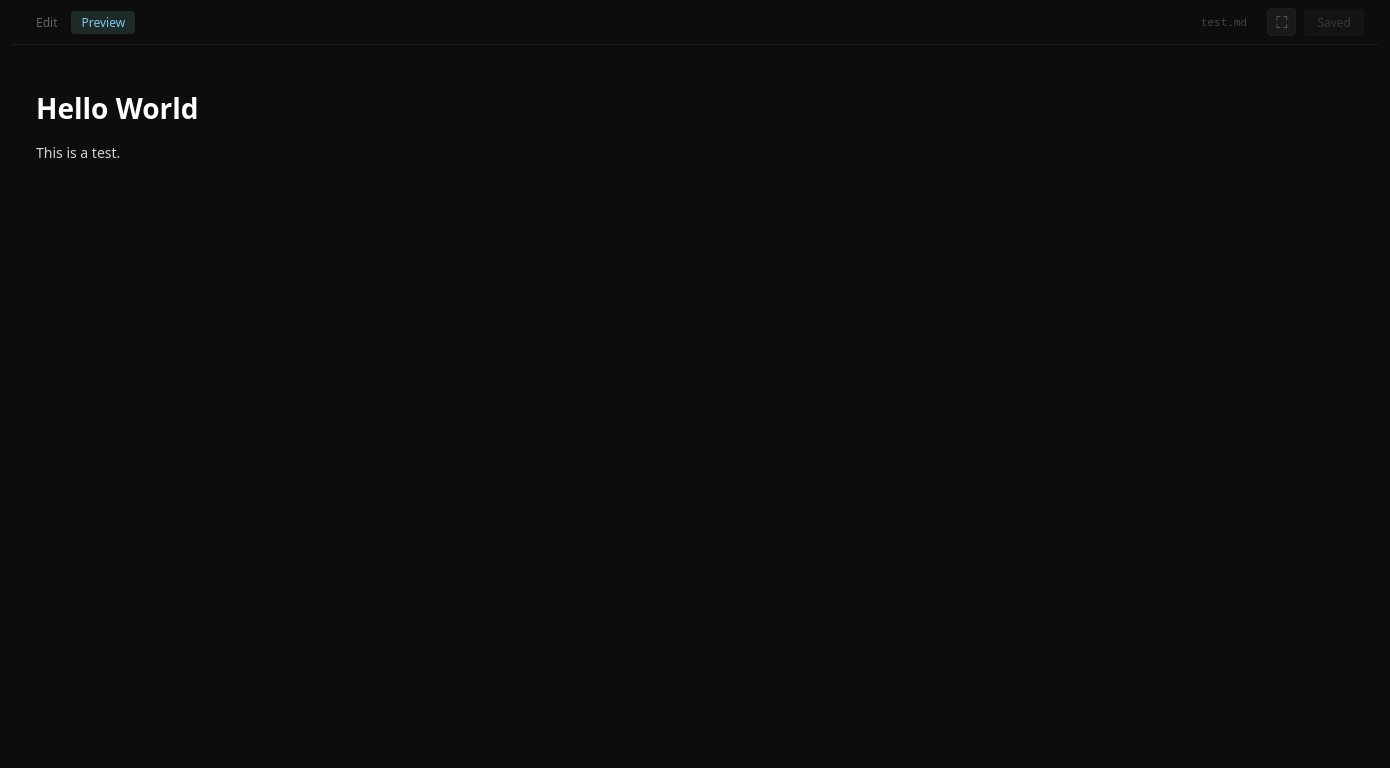
Test: Editor › default tab = preview › switches to edit tab when Edit button is clicked
Click the button with class "tab-btn" showing "Edit" at (47, 22), box 26,10 -> 68,34
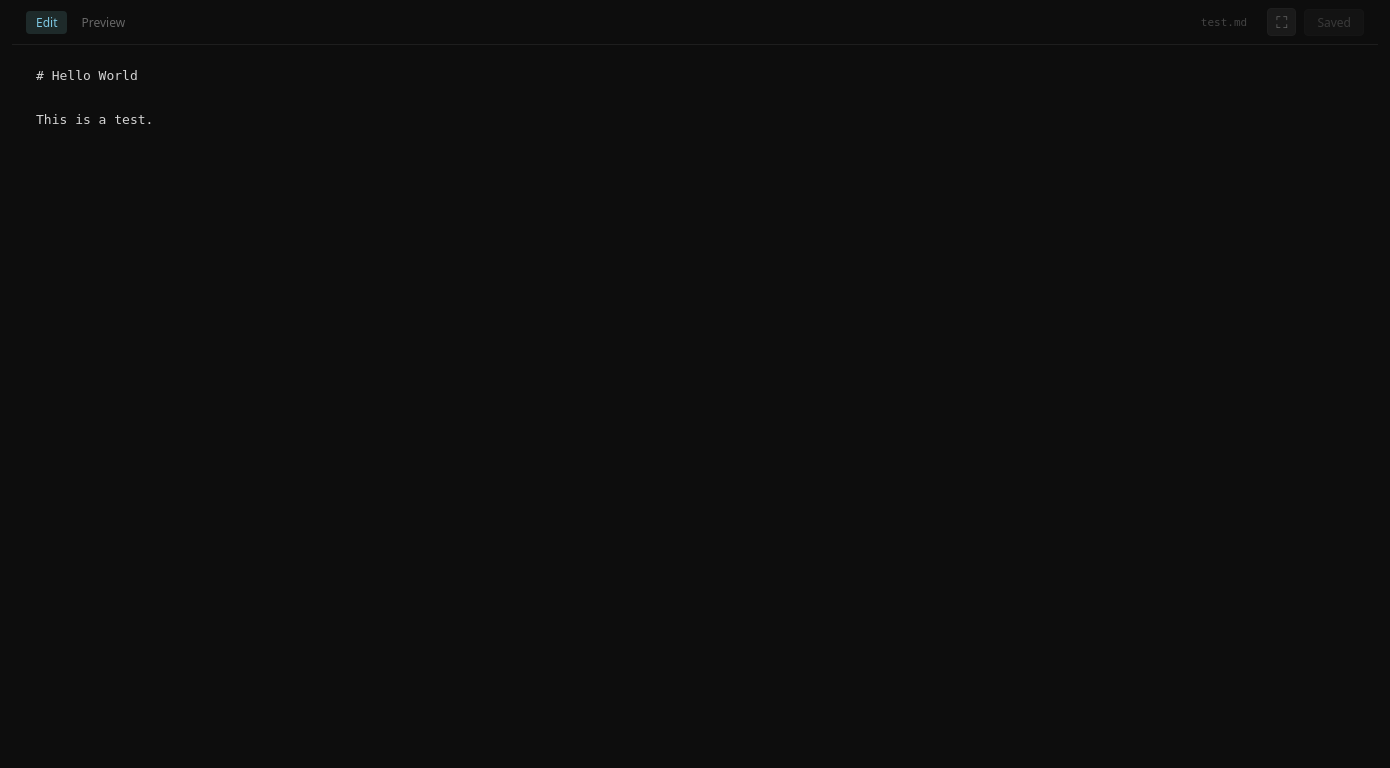
expect the text box is shown: met
